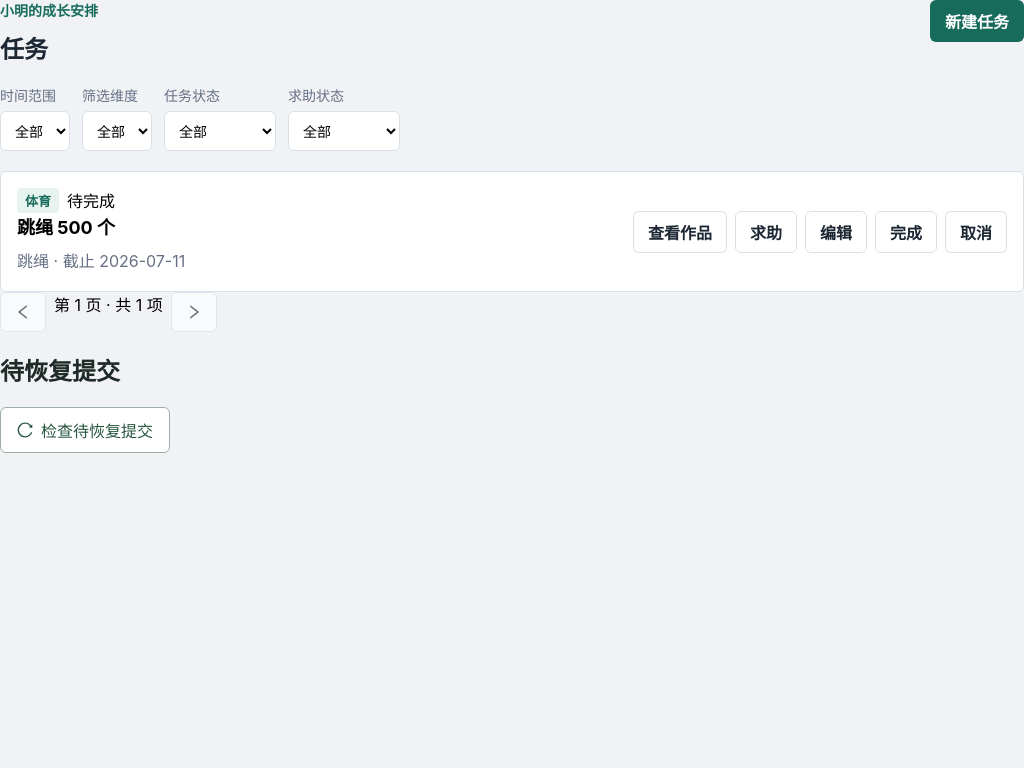
Scenario: Task 9 today and task workflows › edits a pending task and reloads after a state conflict
The image size is (1024, 768).
Expected: the heading "跳绳 500 个" is shown, left=17, top=217, right=115, bottom=238
Click the button with aria-label "编辑 跳绳 500 个".
click(836, 232)  # box left=805, top=211, right=867, bottom=253
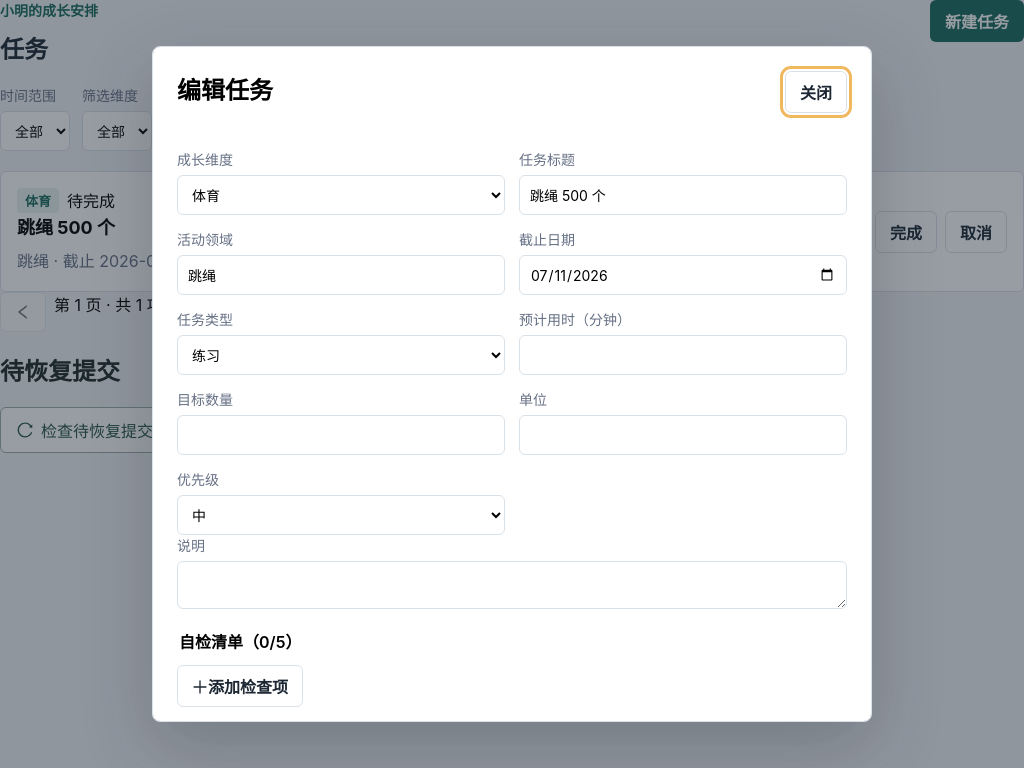
Replace the text in the field labelled "任务标题" with "本地过期标题" at (683, 195), box left=519, top=175, right=847, bottom=215
(page scrolled)
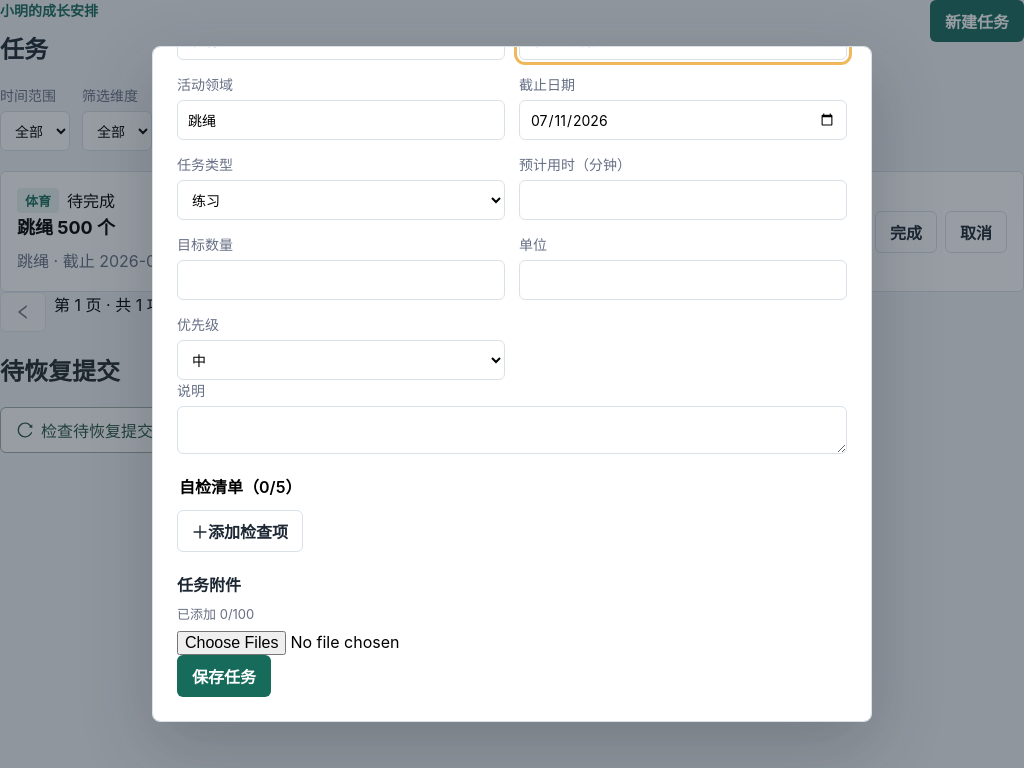
Click the button "保存任务".
click(224, 676)  # box left=177, top=655, right=271, bottom=697
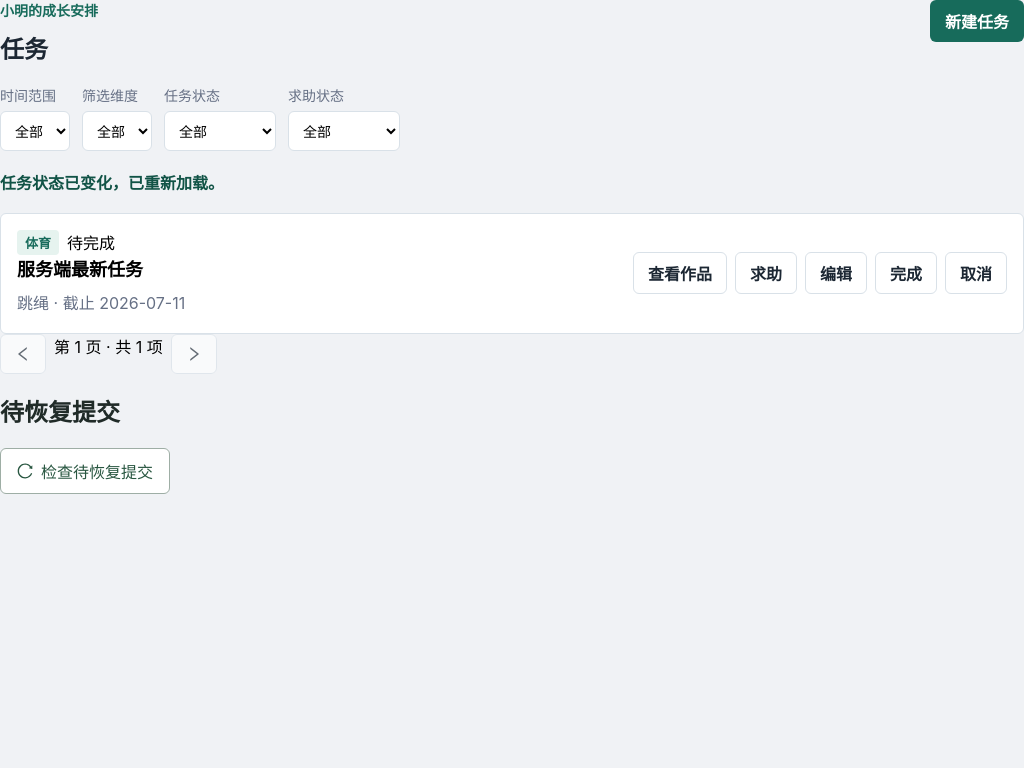
Result: the text "任务状态已变化，已重新加载。" is shown at left=0, top=173, right=224, bottom=193
Result: the heading "服务端最新任务" is shown at left=17, top=259, right=143, bottom=280
